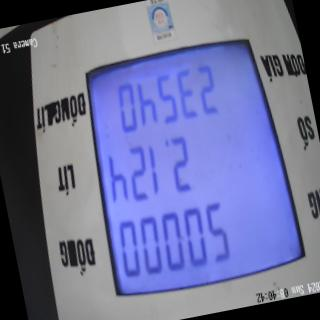screen: (66, 23, 314, 320)
